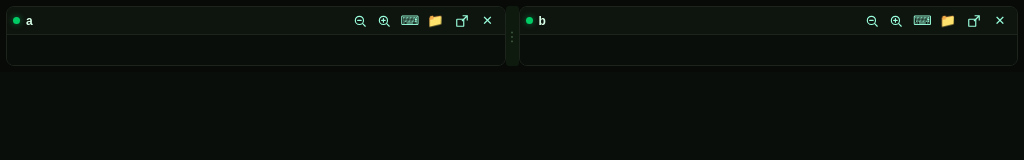
it: GridView resize nel viewport reale › la linea guida col segue il mouse 1:1 dentro la griglia
Press the mouse on the element with class "nc-divider-v" at coordinates (512, 36), box [506,6,518,66]
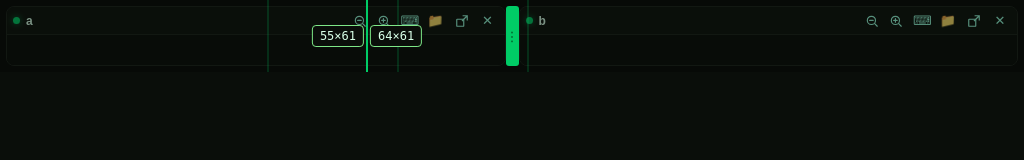
Check: the element with test id "nc-gesture-guide" is shown, box [366,0,368,72]
